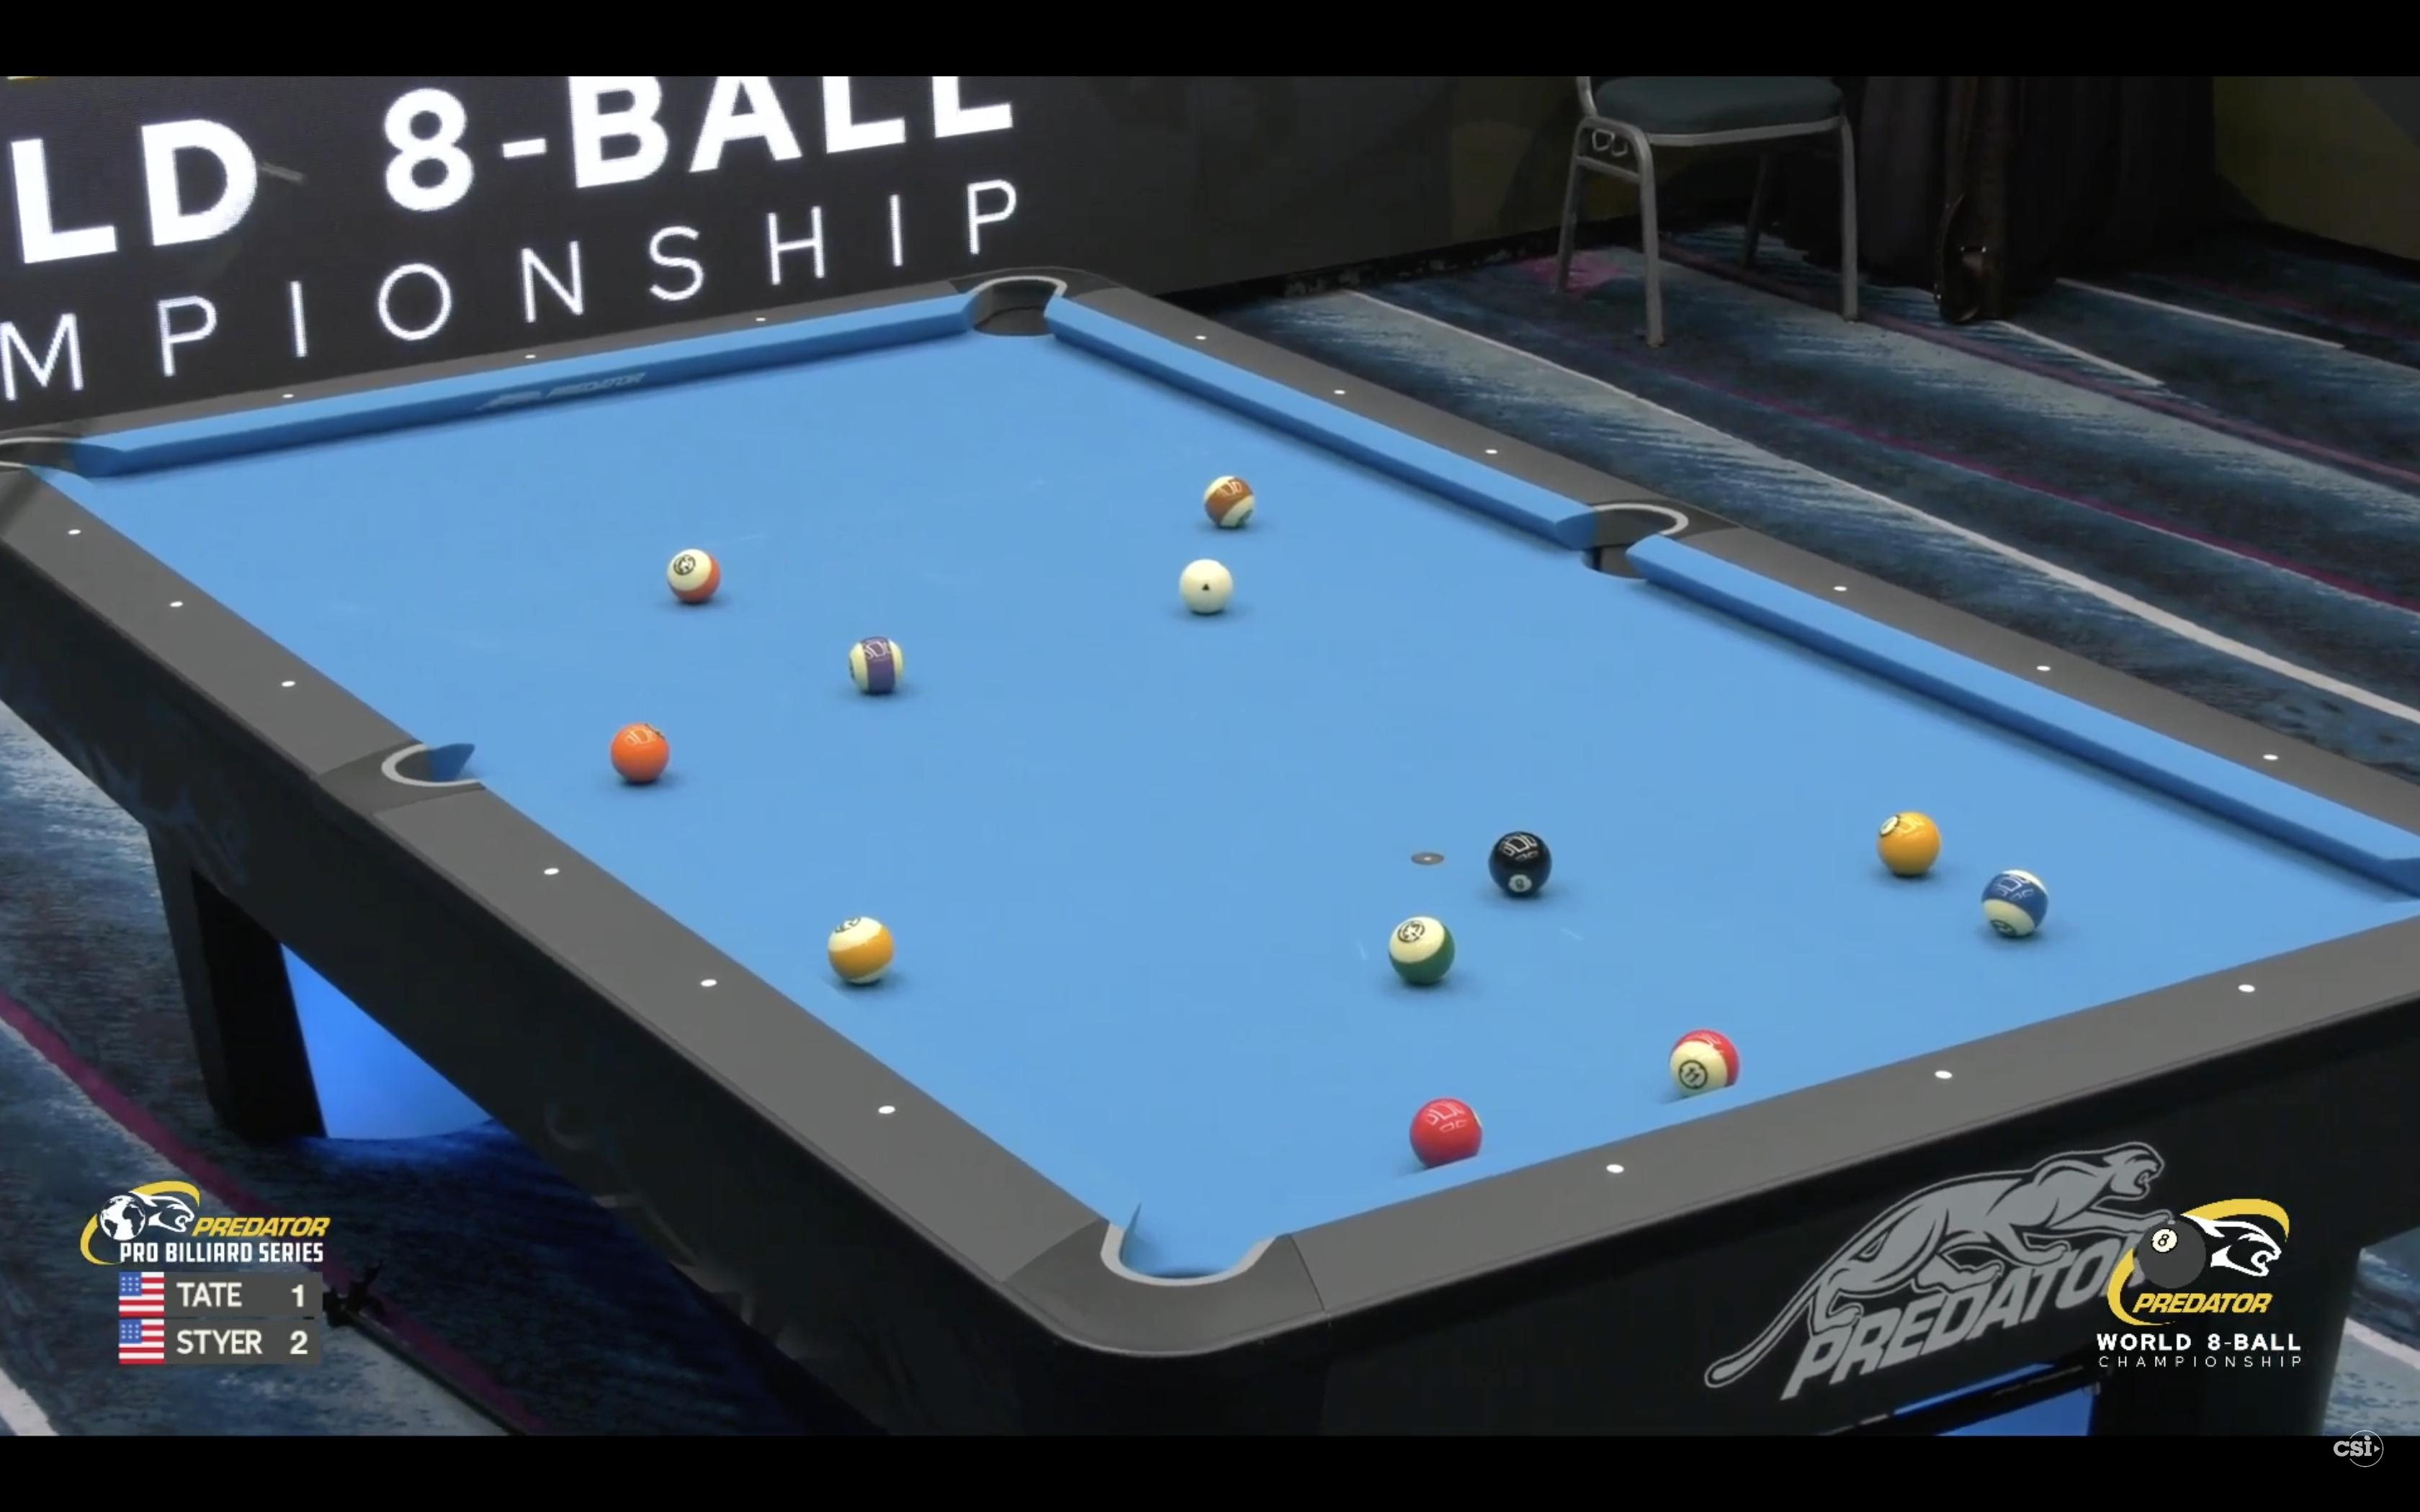Black: (1490, 831, 1552, 897)
Cue: (1180, 559, 1234, 615)
Dot: (1934, 1070, 1953, 1080), (1606, 1164, 1626, 1174), (878, 1104, 896, 1115), (700, 979, 718, 988), (2239, 984, 2256, 993), (544, 867, 559, 876), (281, 679, 296, 688), (169, 599, 185, 608), (68, 528, 82, 537), (1833, 585, 1849, 592), (2263, 754, 2279, 761), (2037, 665, 2051, 672), (524, 354, 537, 361), (1195, 334, 1207, 341), (1335, 388, 1345, 395), (1484, 449, 1498, 455), (282, 394, 294, 399), (756, 317, 767, 322)
Solid: (1409, 1097, 1483, 1167), (1878, 812, 1943, 874), (610, 721, 671, 784)
Striped: (1669, 1028, 1742, 1097), (1389, 916, 1457, 984), (1983, 869, 2049, 937), (829, 916, 894, 984), (848, 636, 904, 695), (667, 549, 721, 603), (1206, 476, 1254, 528)
